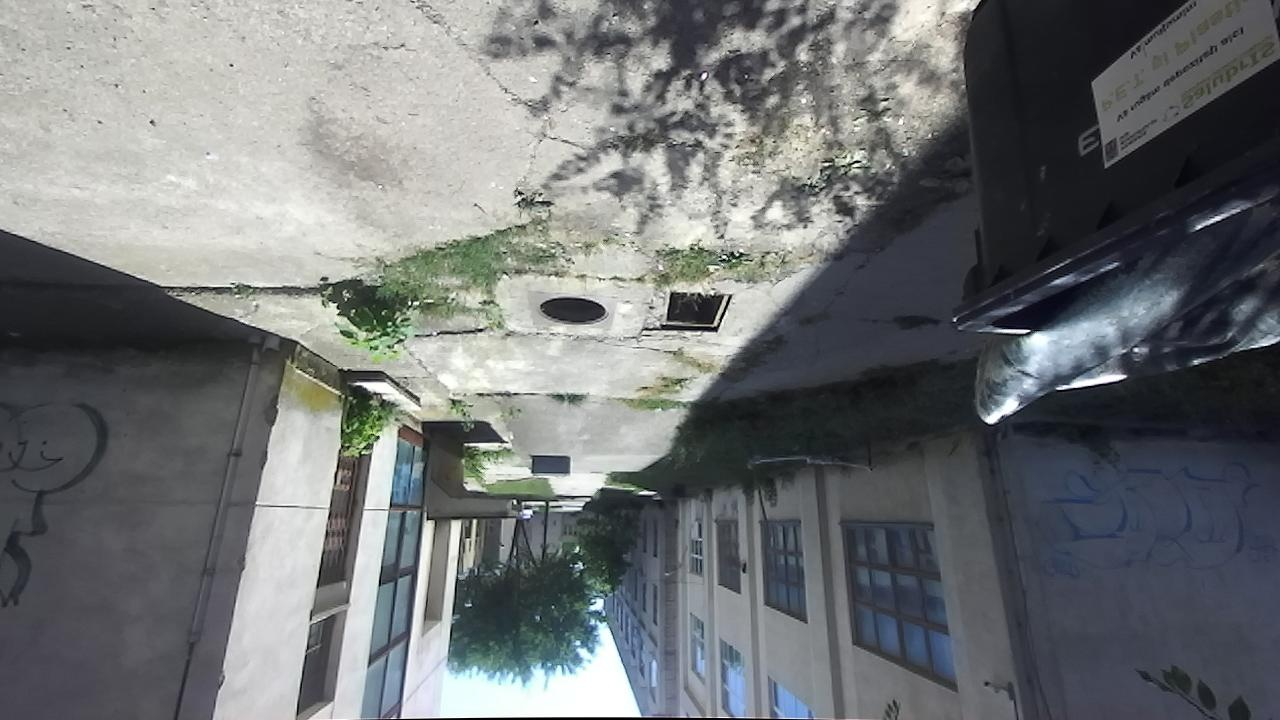drain: (651, 287, 739, 337), (532, 294, 614, 335)
